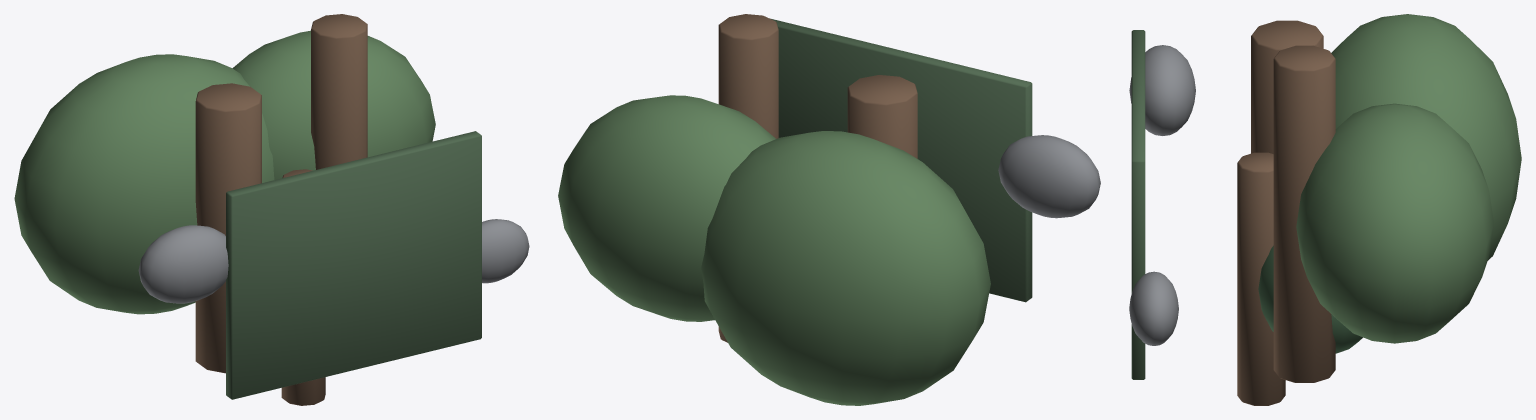
File: environment_tutorial_forest_cluster.glb
The picture shows the model from 3 angles, left to right: view 1: azimuth 30°, elevation 25°; view 2: azimuth 150°, elevation 25°; view 3: azimuth 270°, elevation 25°; orthographic projection. The views are drawn at different scales.
Visible parts, largest first — view 1: environment_tutorial_forest_cluster; view 2: environment_tutorial_forest_cluster; view 3: environment_tutorial_forest_cluster.
Boxes of the visible parts, <box> form: environment_tutorial_forest_cluster: <box>14,14,529,405</box>; environment_tutorial_forest_cluster: <box>558,14,1100,405</box>; environment_tutorial_forest_cluster: <box>1129,14,1521,405</box>.
Size of the model in its own units: 5.67 by 4.7 by 4.54.
